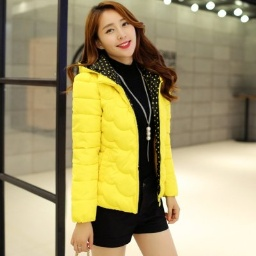face: (80, 2, 154, 66)
